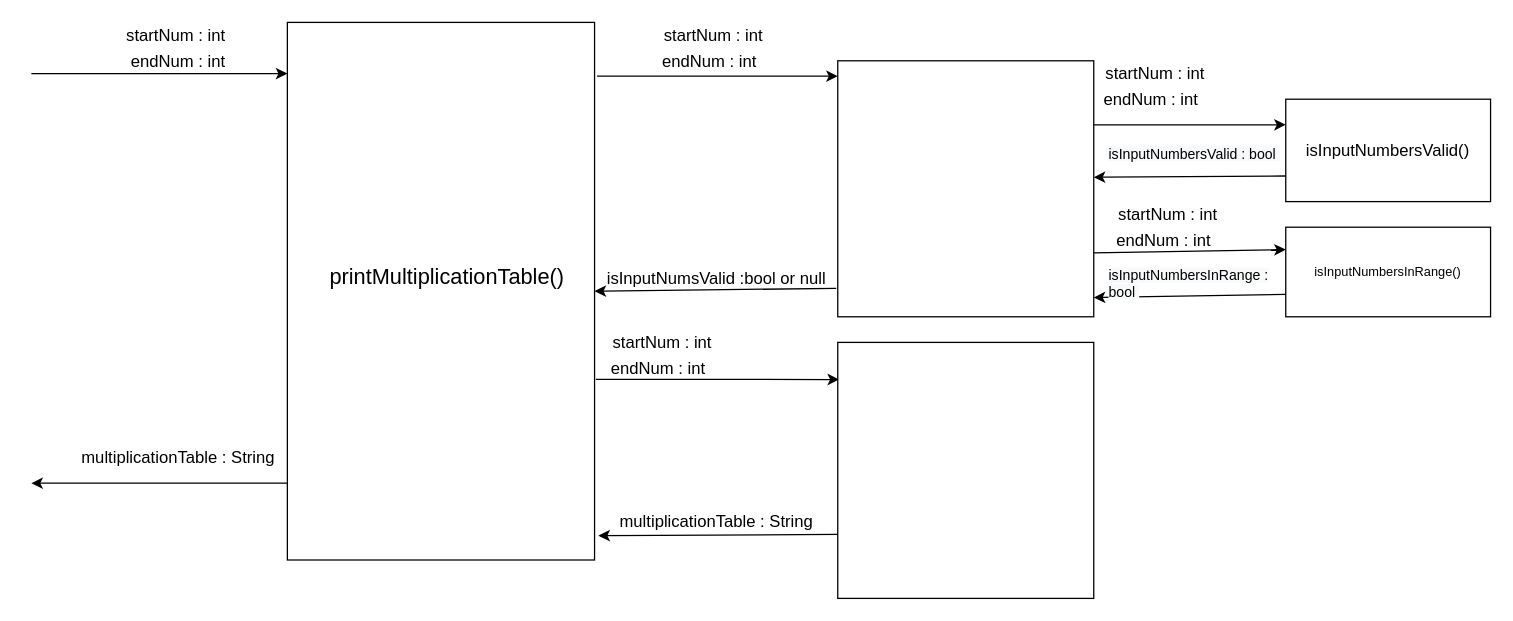
Some shapes in this 1513 by 621 pixel diagram are drawn without their labels. The box of each missing label's shape, as (x1, y1, x2, y2) in pixels:
generateMultiplicationTable(): (836, 341, 1094, 598)
validateInputNumbers(): (836, 60, 1094, 317)
